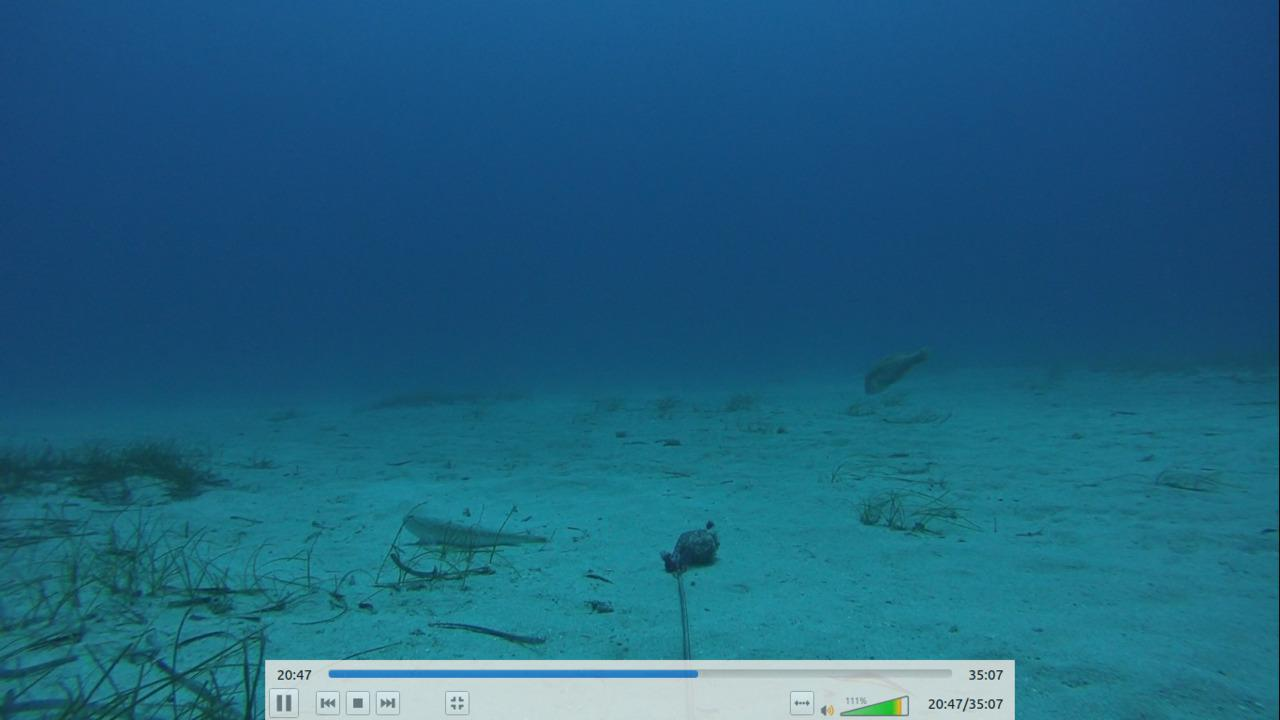raor: (859, 342, 930, 398)
